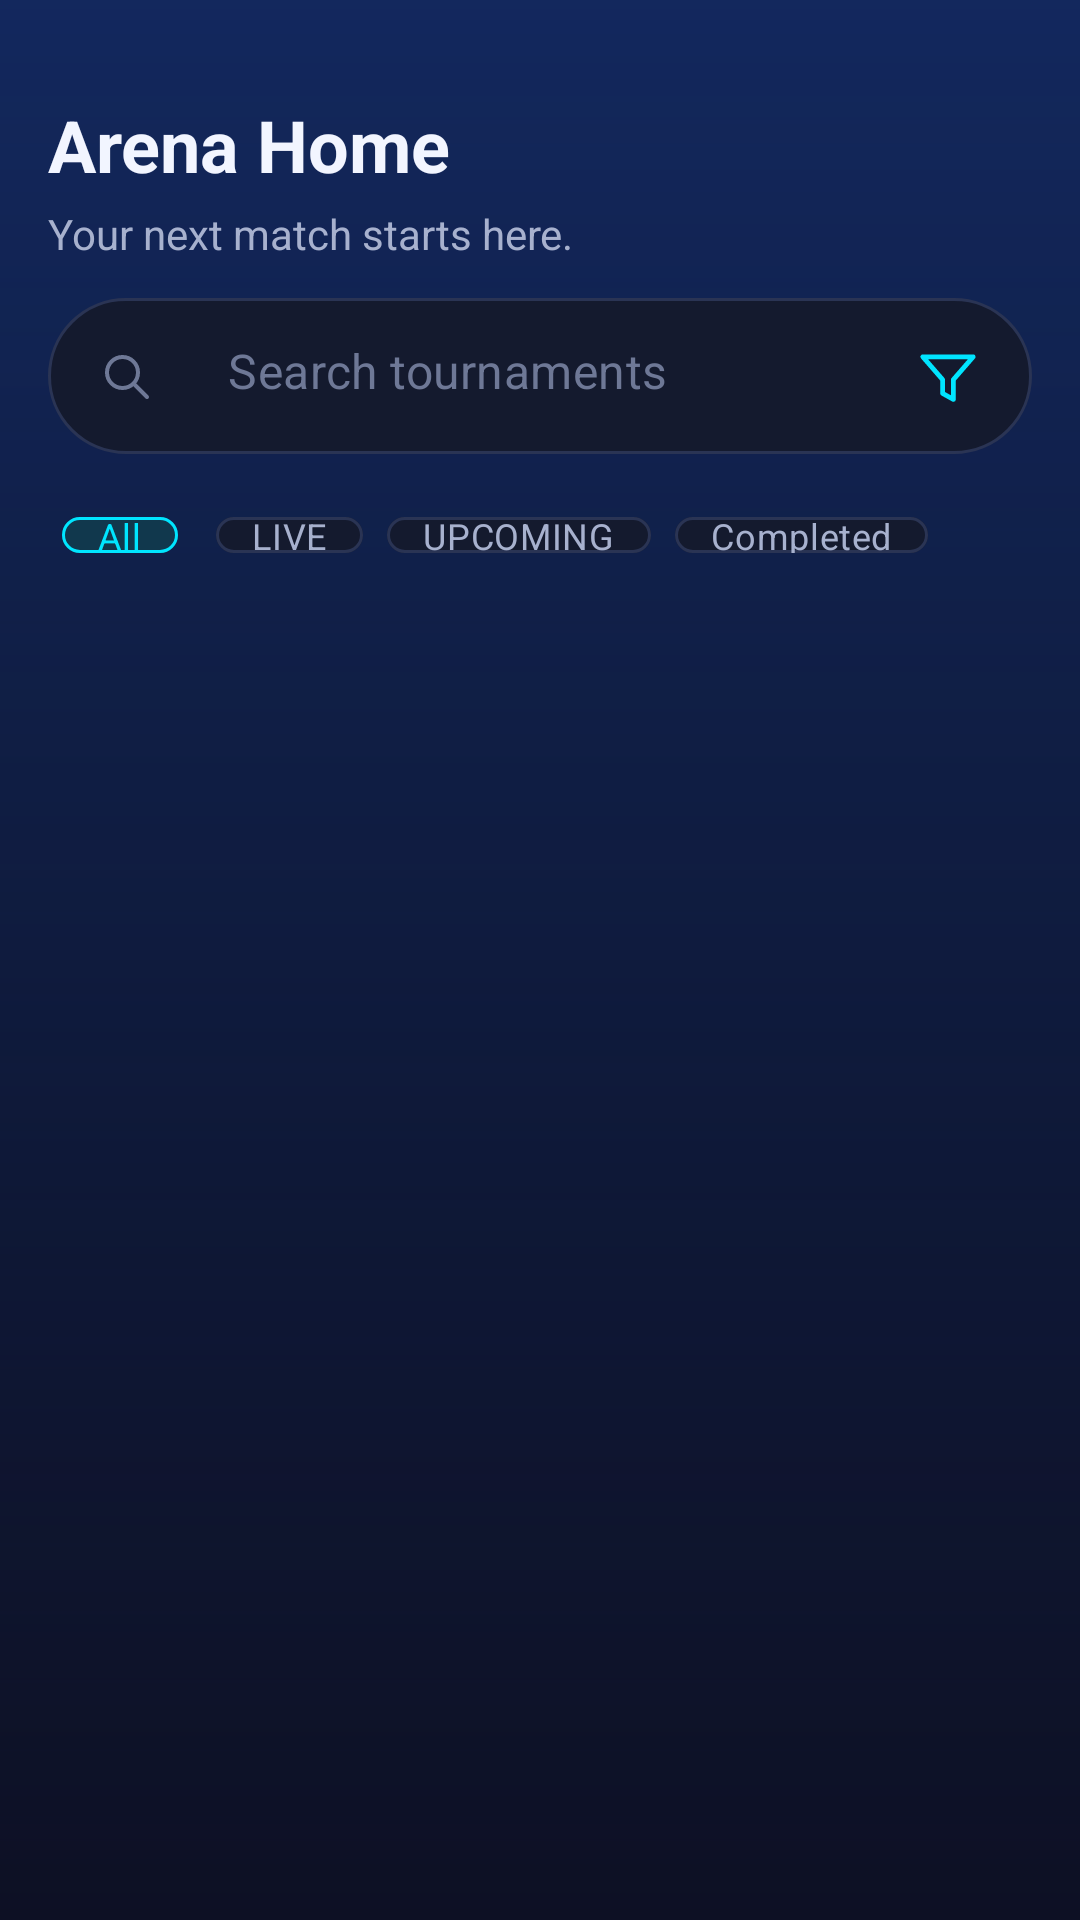

Icon bounding boxes for this 1080*1920 phone screenshot, format (x1, y1, x2, y2):
Filter: (920, 354, 976, 402)
